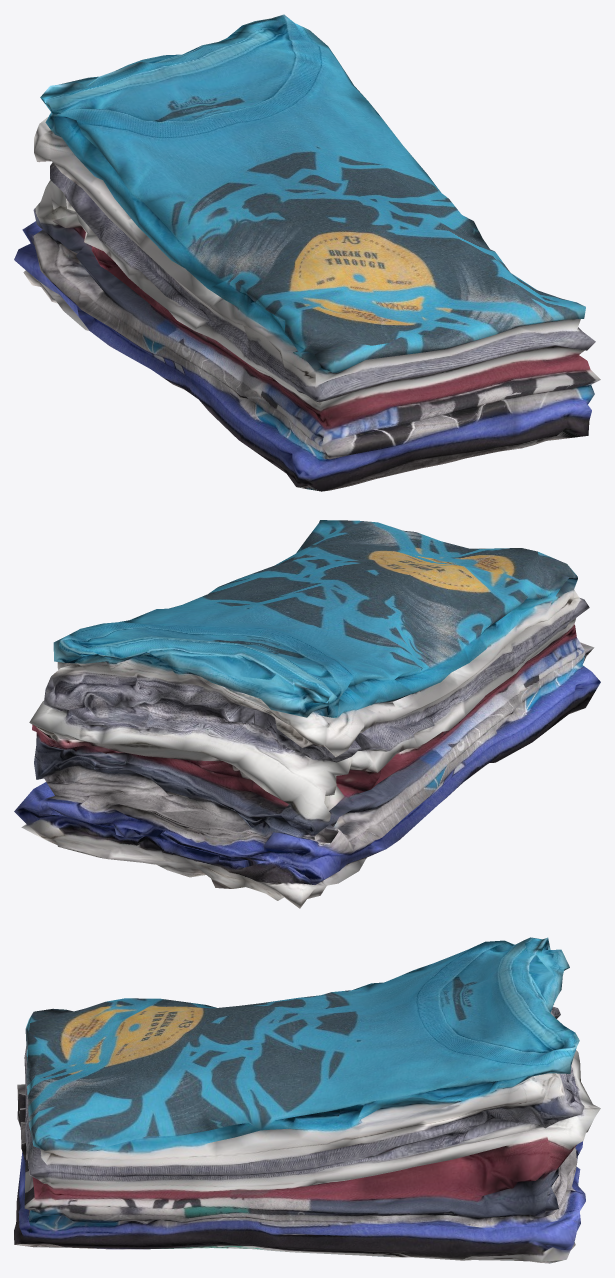
File: ASSET_tshirt_stack.glb
The picture shows the model from 3 angles, top to bottom: view 1: azimuth 30°, elevation 25°; view 2: azimuth 150°, elevation 25°; view 3: azimuth 270°, elevation 25°; orthographic projection. The views are drawn at different scales.
Parts seen in each view (by area): view 1: ASSET_tshirt_stack; view 2: ASSET_tshirt_stack; view 3: ASSET_tshirt_stack.
Boxes of the visible parts, x1,y1,x2,y2 form: ASSET_tshirt_stack: (14, 14, 600, 491); ASSET_tshirt_stack: (14, 520, 600, 908); ASSET_tshirt_stack: (14, 937, 600, 1263).
Size of the model in its own units: 0.238 by 0.1565 by 0.3952.
1 material, 1 textured.
